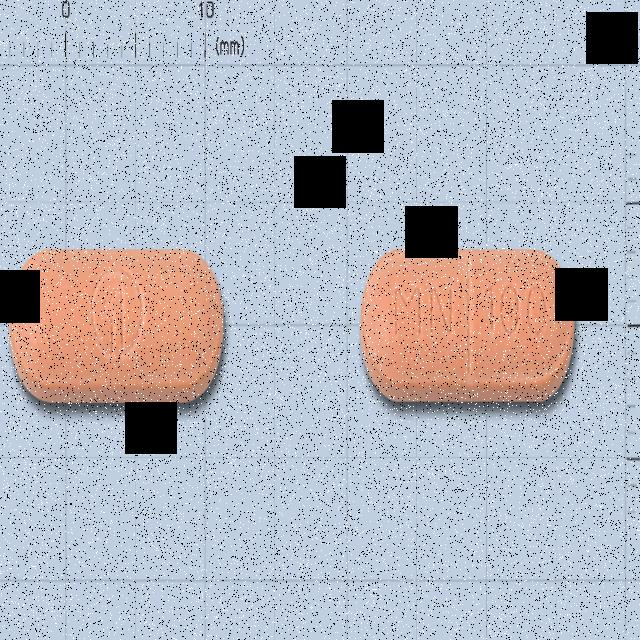Monocin: (361, 250, 577, 405), (8, 249, 225, 400)
